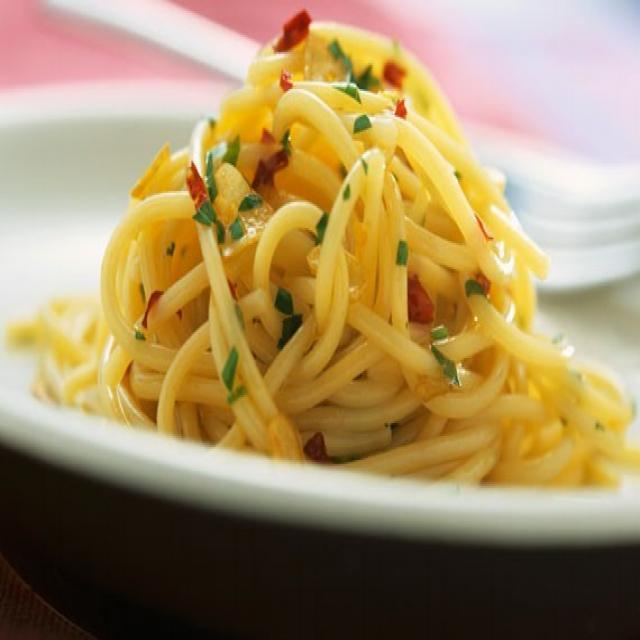Oil pasta: (111, 4, 563, 510)
